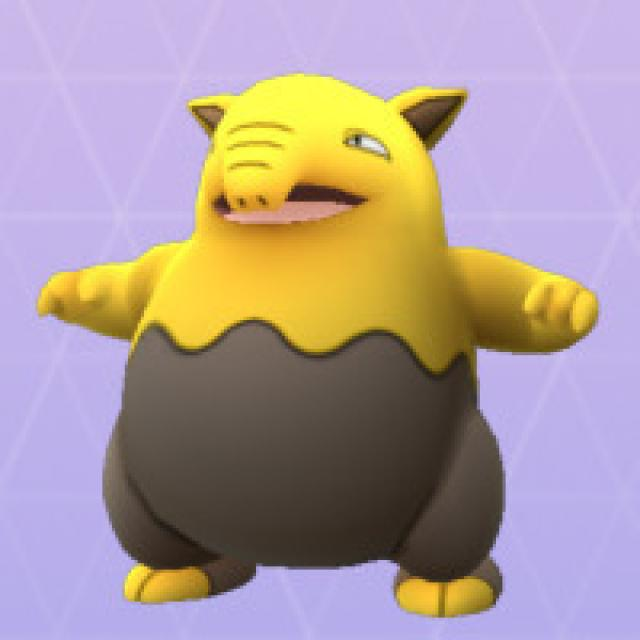Drowzee: (90, 69, 511, 606)
